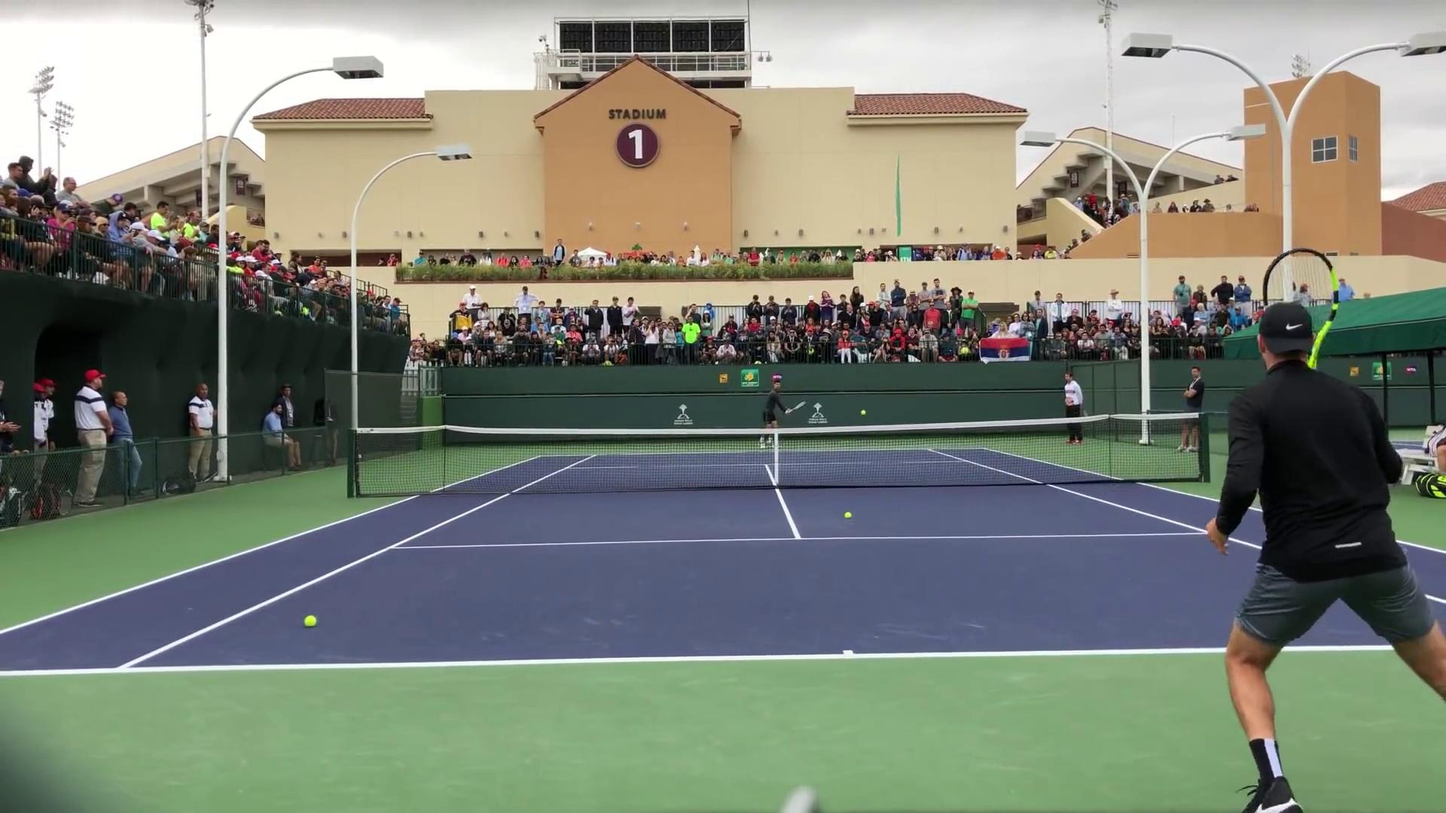ball: (303, 614, 316, 628), (860, 408, 868, 417), (844, 511, 852, 519)
